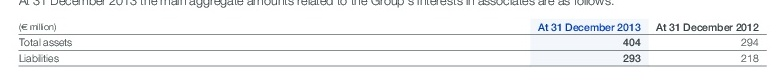table: (0, 0, 781, 84)
